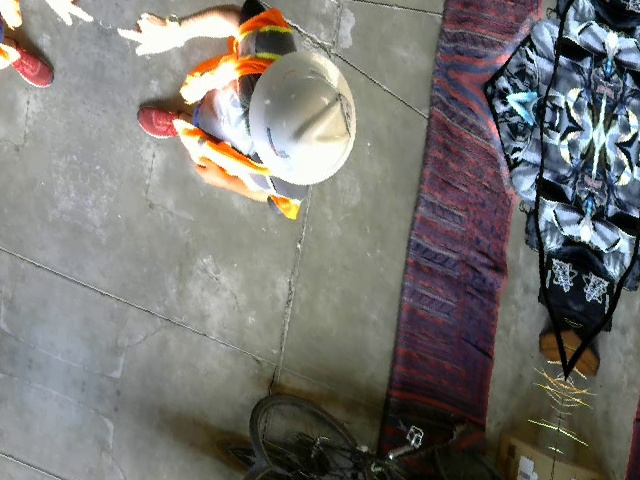three: (334, 92, 356, 137)
